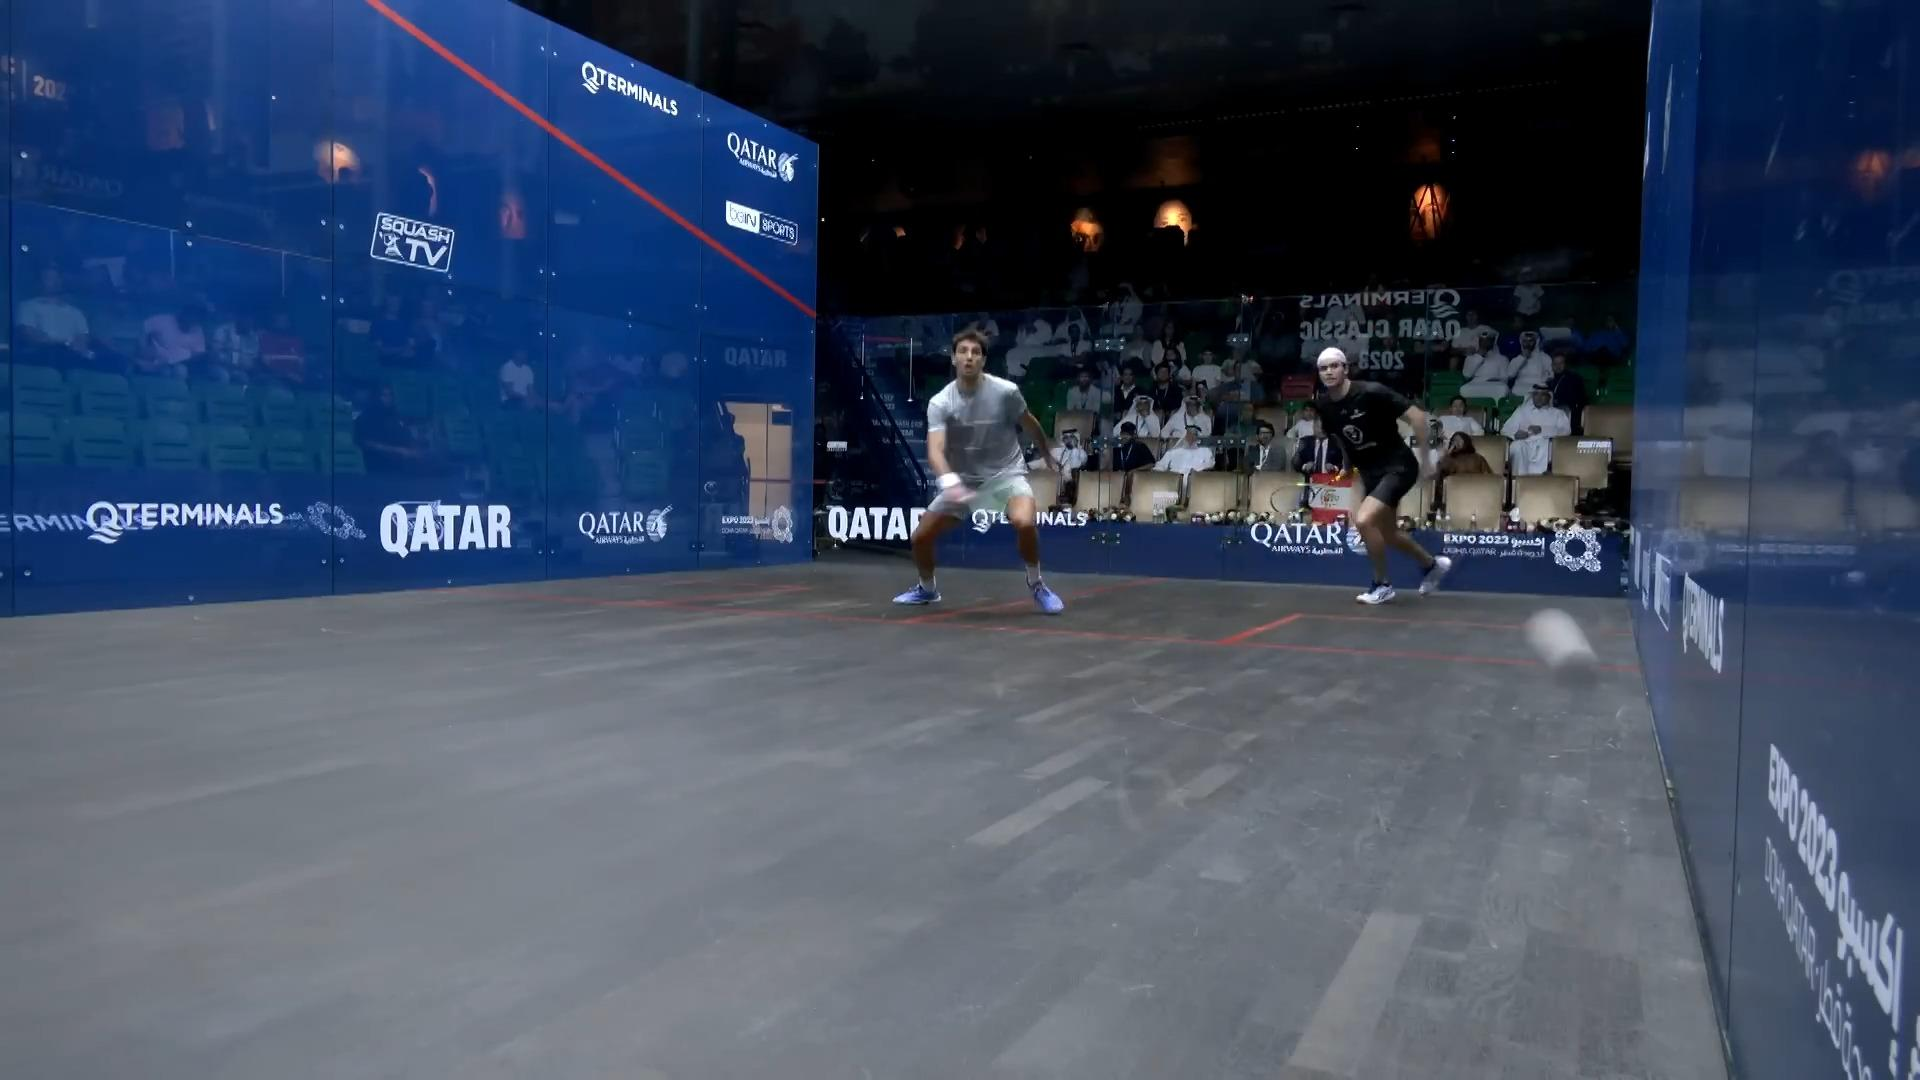Racket: (1269, 476, 1329, 521)
